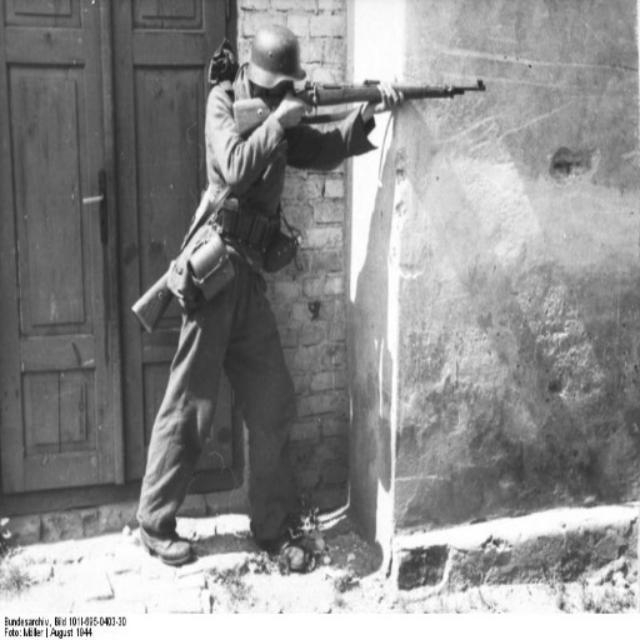other: (150, 31, 308, 541)
